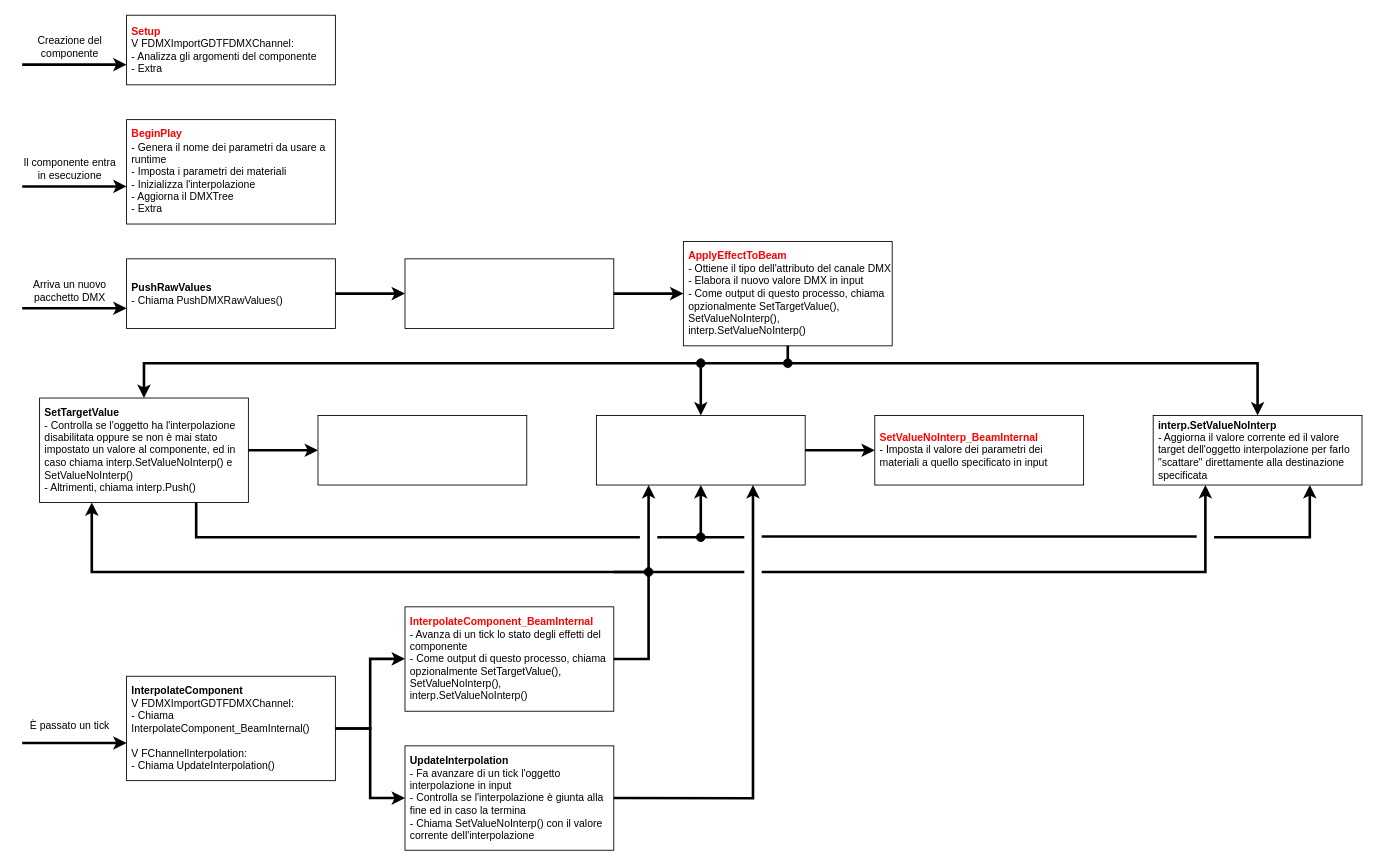
Some shapes in this 1377 by 866 pixel diagram are drawn without their labels. The box of each missing label's shape, as (x1, y1, x2, y2) in pixels:
interp.Push - Imposta un nuovo target per l'oggetto interpolazione: (317, 415, 527, 485)
PushDMXRawValues V FDMXImportGDTFDMXChannel: - ApplyEffectToBeam(): (404, 258, 614, 328)
SetValueNoInterp V BeamSceneComponent: - Chiama SetValueNoInterp_BeamInternal(): (596, 415, 805, 485)
